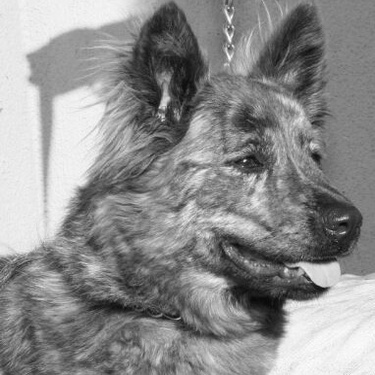dog: (7, 3, 363, 370)
